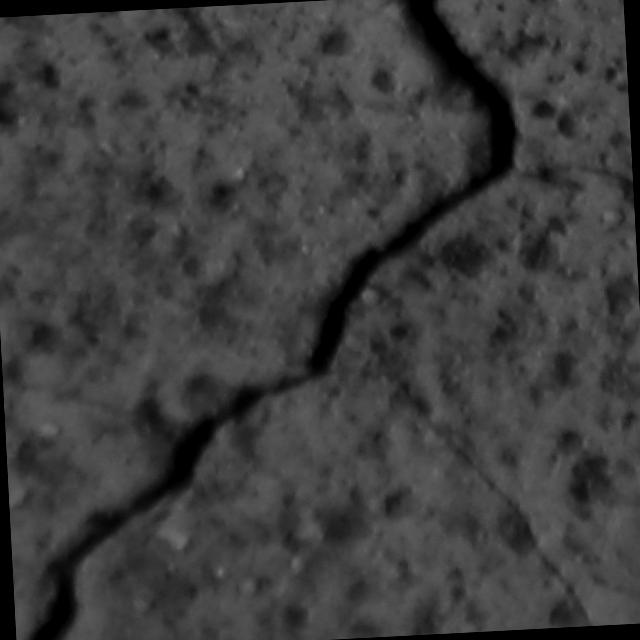crack: (205, 0, 536, 424), (354, 325, 600, 637), (5, 399, 240, 640), (518, 156, 632, 198)
